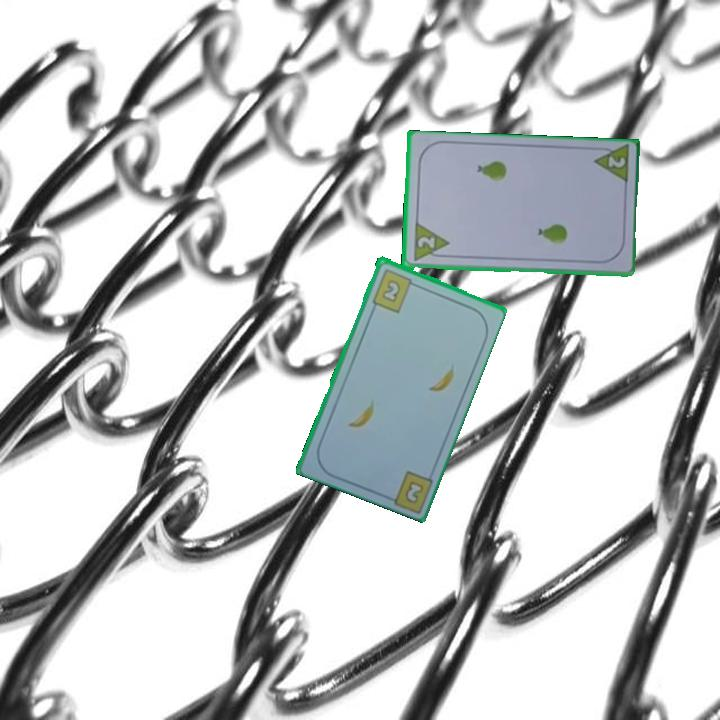2b: (368, 265, 420, 315), (403, 480, 424, 504)
2p: (410, 221, 451, 264), (604, 153, 628, 171)
